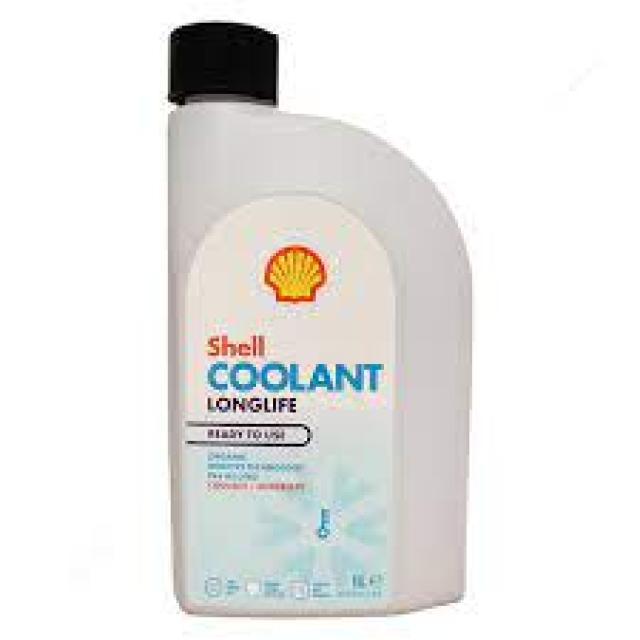coolant: (152, 16, 478, 632)
